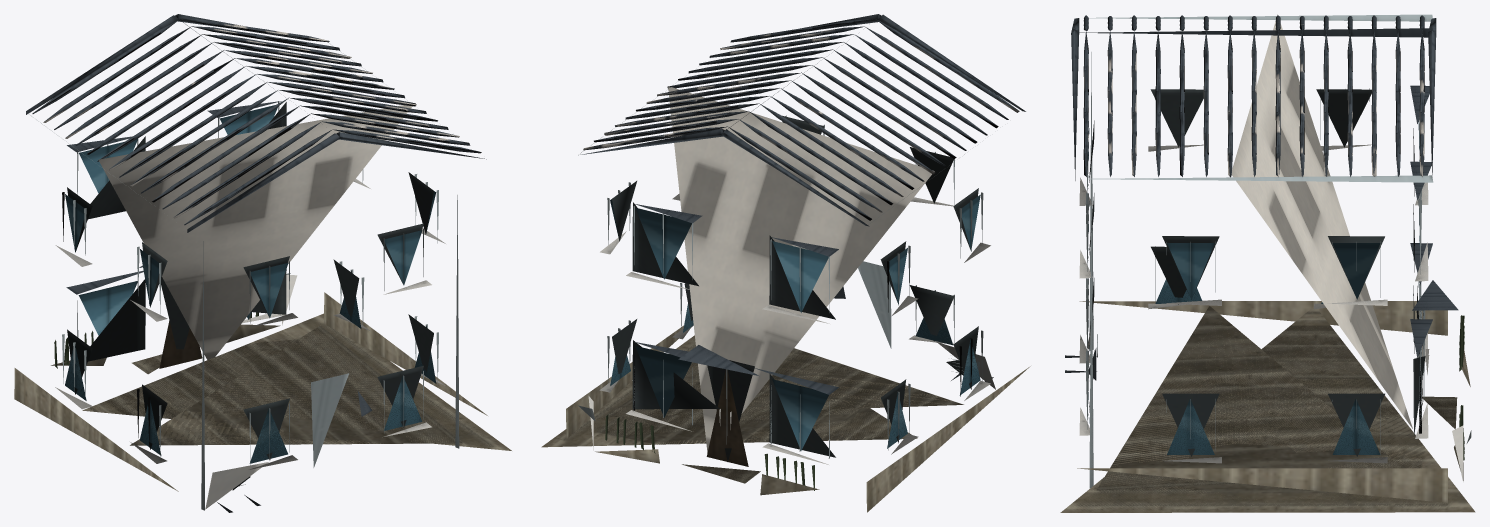
File: residential_011.obj
The picture shows the model from 3 angles, left to right: view 1: azimuth 30°, elevation 25°; view 2: azimuth 150°, elevation 25°; view 3: azimuth 270°, elevation 25°; orthographic projection. The views are drawn at different scales.
Visible parts, largest first — view 1: residential_011; view 2: residential_011; view 3: residential_011.
Boxes of the visible parts, x1,y1,x2,y2 form: residential_011: [14, 14, 511, 512]; residential_011: [541, 14, 1030, 512]; residential_011: [1060, 14, 1475, 512].
Bounding box in the file's own units: 7.25 × 7.56 × 7.25.
1 material, 1 textured.
